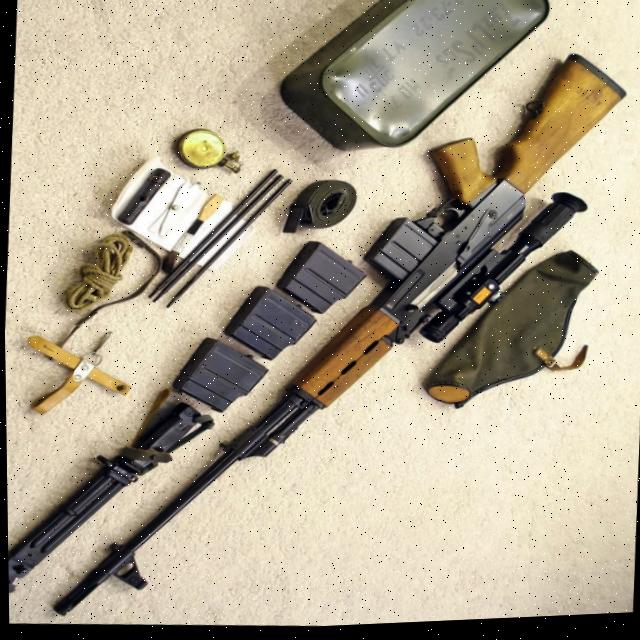firearm: (41, 31, 636, 639)
knife: (5, 395, 202, 595)
